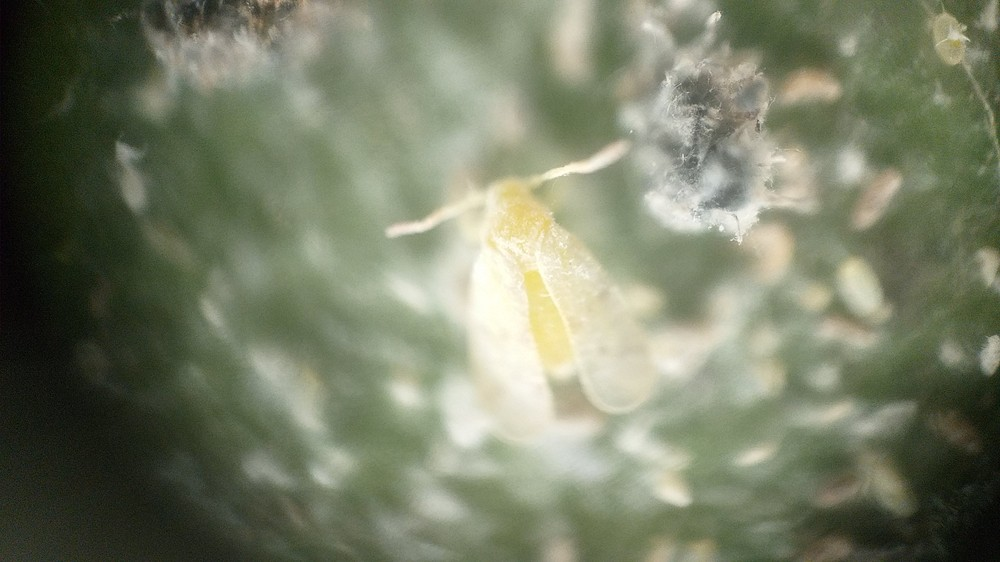Mosca Blanca: (372, 120, 692, 435)
